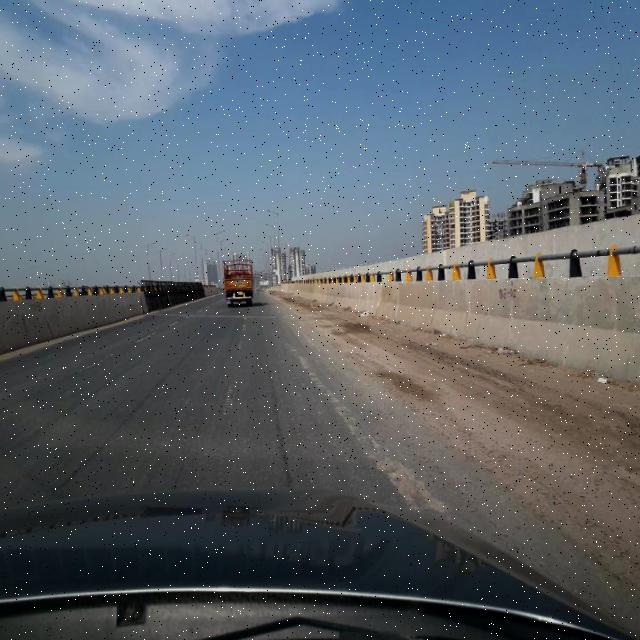D44: (300, 362, 426, 497)
